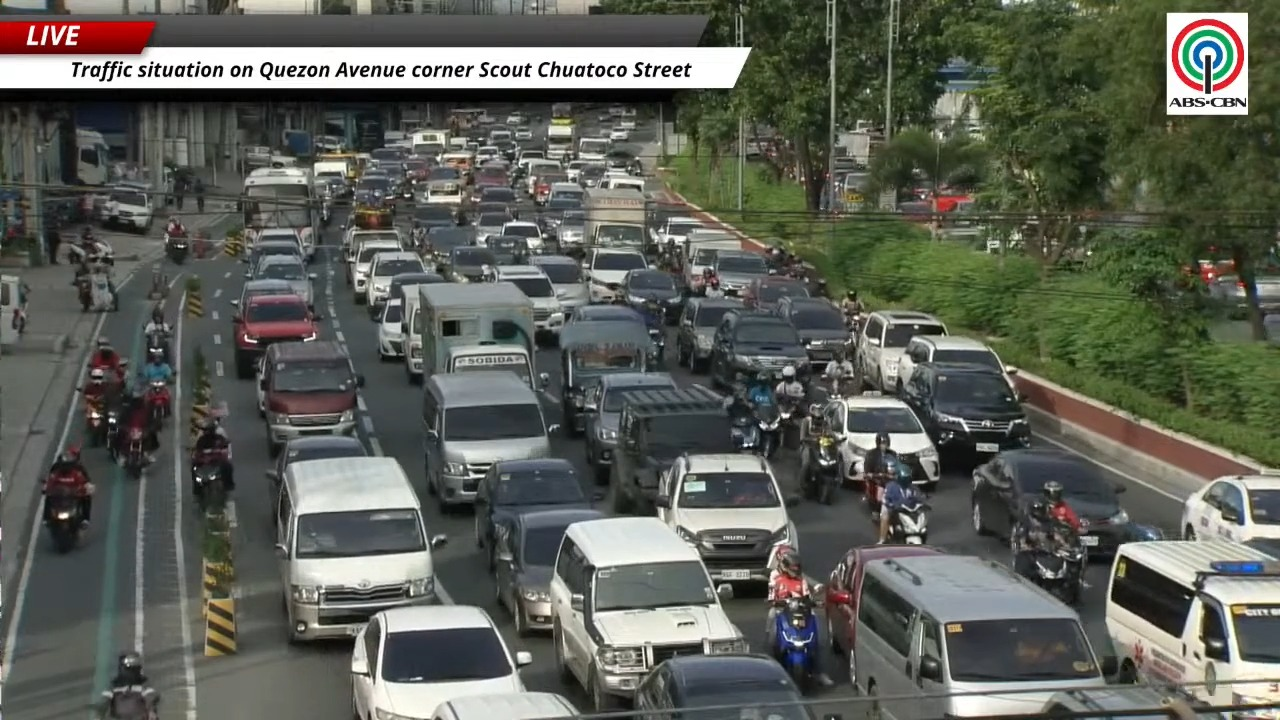bus: (241, 168, 319, 249), (551, 102, 572, 123)
car: (351, 605, 531, 718), (654, 453, 798, 582), (971, 448, 1131, 554), (610, 385, 735, 514), (824, 544, 943, 676), (493, 508, 606, 635), (475, 458, 592, 569), (901, 363, 1030, 458), (820, 391, 940, 491), (634, 655, 814, 719), (584, 372, 677, 483), (709, 308, 809, 386), (855, 310, 949, 391), (233, 295, 320, 378), (897, 335, 1016, 392), (1180, 473, 1279, 541), (266, 434, 368, 497), (775, 297, 850, 372), (496, 264, 564, 338), (676, 297, 741, 372), (366, 251, 425, 317), (341, 225, 403, 285), (245, 255, 315, 307), (348, 238, 402, 303), (529, 255, 588, 314), (584, 248, 648, 301), (622, 269, 682, 323), (713, 250, 769, 296), (424, 226, 475, 272), (741, 275, 810, 309), (230, 279, 295, 311), (250, 227, 313, 260), (649, 216, 704, 251), (444, 247, 497, 281), (244, 240, 304, 268), (387, 272, 447, 299), (377, 299, 403, 360), (531, 165, 568, 206), (568, 305, 644, 324), (498, 221, 543, 253), (471, 164, 508, 202), (484, 235, 529, 265), (554, 211, 586, 252), (469, 201, 517, 227), (474, 210, 512, 241), (413, 206, 456, 230), (604, 148, 642, 174), (479, 186, 518, 206), (578, 163, 606, 187), (565, 160, 590, 183), (476, 145, 500, 167), (505, 112, 527, 126), (609, 126, 629, 141), (514, 127, 533, 142), (618, 116, 636, 130), (596, 111, 613, 122)
motorcycle: (771, 595, 821, 691), (1029, 526, 1086, 604), (802, 433, 839, 504), (46, 491, 81, 553), (889, 495, 929, 544), (193, 452, 225, 511), (753, 404, 781, 458), (106, 690, 158, 719), (68, 237, 114, 265), (88, 267, 117, 311), (123, 427, 147, 479), (863, 473, 888, 519), (84, 398, 107, 446), (146, 379, 171, 422), (731, 415, 759, 453), (778, 397, 799, 446), (164, 231, 190, 264), (147, 330, 171, 364), (105, 408, 119, 460), (829, 373, 858, 398), (75, 274, 92, 312), (648, 328, 664, 364), (321, 197, 333, 226)
truck: (412, 282, 540, 389), (584, 189, 648, 250), (546, 118, 576, 157)
